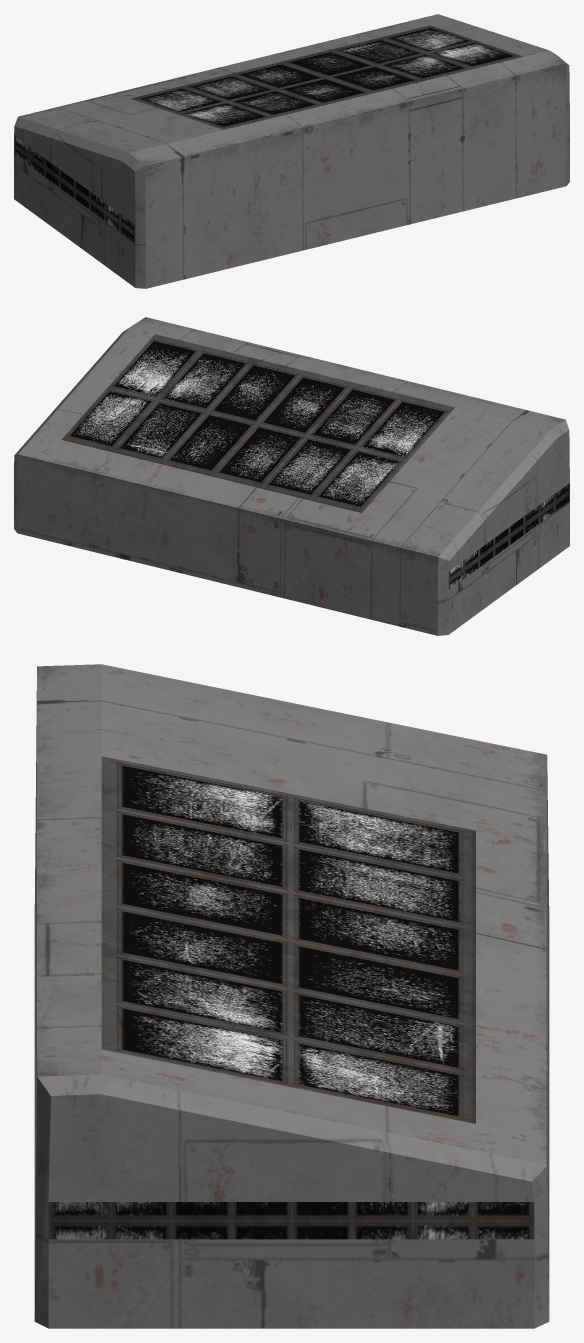
Rendered from ARC0910228.fbx.
3 renders of one model, top to bottom at view 1: azimuth 30°, elevation 25°; view 2: azimuth 150°, elevation 25°; view 3: azimuth 270°, elevation 25°, orthographic. The views are drawn at different scales.
Visible parts, largest first — view 1: smARC0910228; view 2: smARC0910228; view 3: smARC0910228.
Part boxes in pixels (left/top/right/bottom): smARC0910228: left=14, top=14, right=569, bottom=288; smARC0910228: left=14, top=317, right=569, bottom=635; smARC0910228: left=34, top=664, right=549, bottom=1328.
Size of the model in its own units: 758 by 206 by 389.
Materials: 1 (1 with a texture image).
